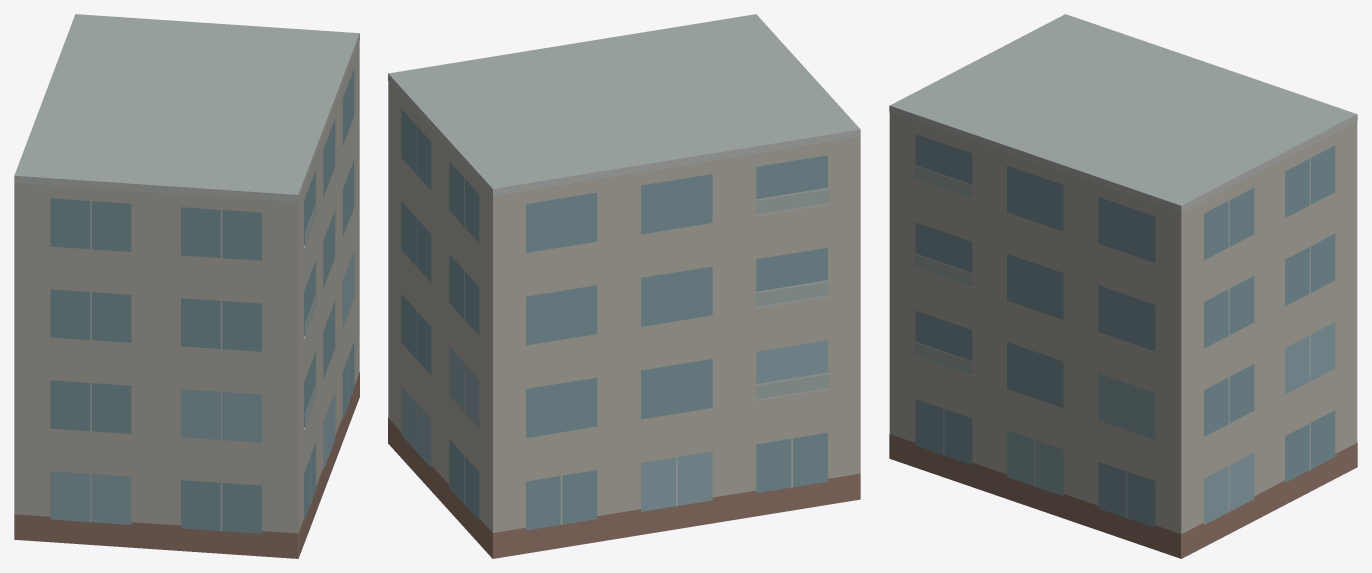
The model's file is residential-7525b747-350e-42bf-a0bc-51bc3169401e.glb.
The picture shows the model from 3 angles, left to right: view 1: azimuth 30°, elevation 25°; view 2: azimuth 150°, elevation 25°; view 3: azimuth 270°, elevation 25°; orthographic projection. The views are drawn at different scales.
Visible parts, largest first — view 1: residential-7525b747-350e-42bf-a0bc-51bc3169401e.tmp; view 2: residential-7525b747-350e-42bf-a0bc-51bc3169401e.tmp; view 3: residential-7525b747-350e-42bf-a0bc-51bc3169401e.tmp.
Part boxes in pixels (left/top/right/bottom): residential-7525b747-350e-42bf-a0bc-51bc3169401e.tmp: left=14, top=14, right=359, bottom=558; residential-7525b747-350e-42bf-a0bc-51bc3169401e.tmp: left=388, top=14, right=860, bottom=558; residential-7525b747-350e-42bf-a0bc-51bc3169401e.tmp: left=889, top=14, right=1357, bottom=558.
Size of the model in its own units: 14.22 by 12.2 by 14.66.
